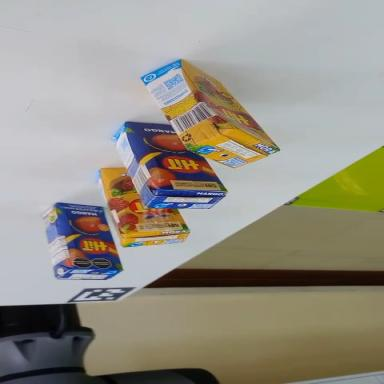HIT-MANGO: (101, 97, 230, 237), (34, 190, 124, 294)
HIT-MORA: (131, 40, 280, 195), (71, 157, 196, 274)
cara_F: (117, 96, 229, 224), (79, 156, 194, 263), (177, 50, 279, 162), (52, 189, 124, 285)
